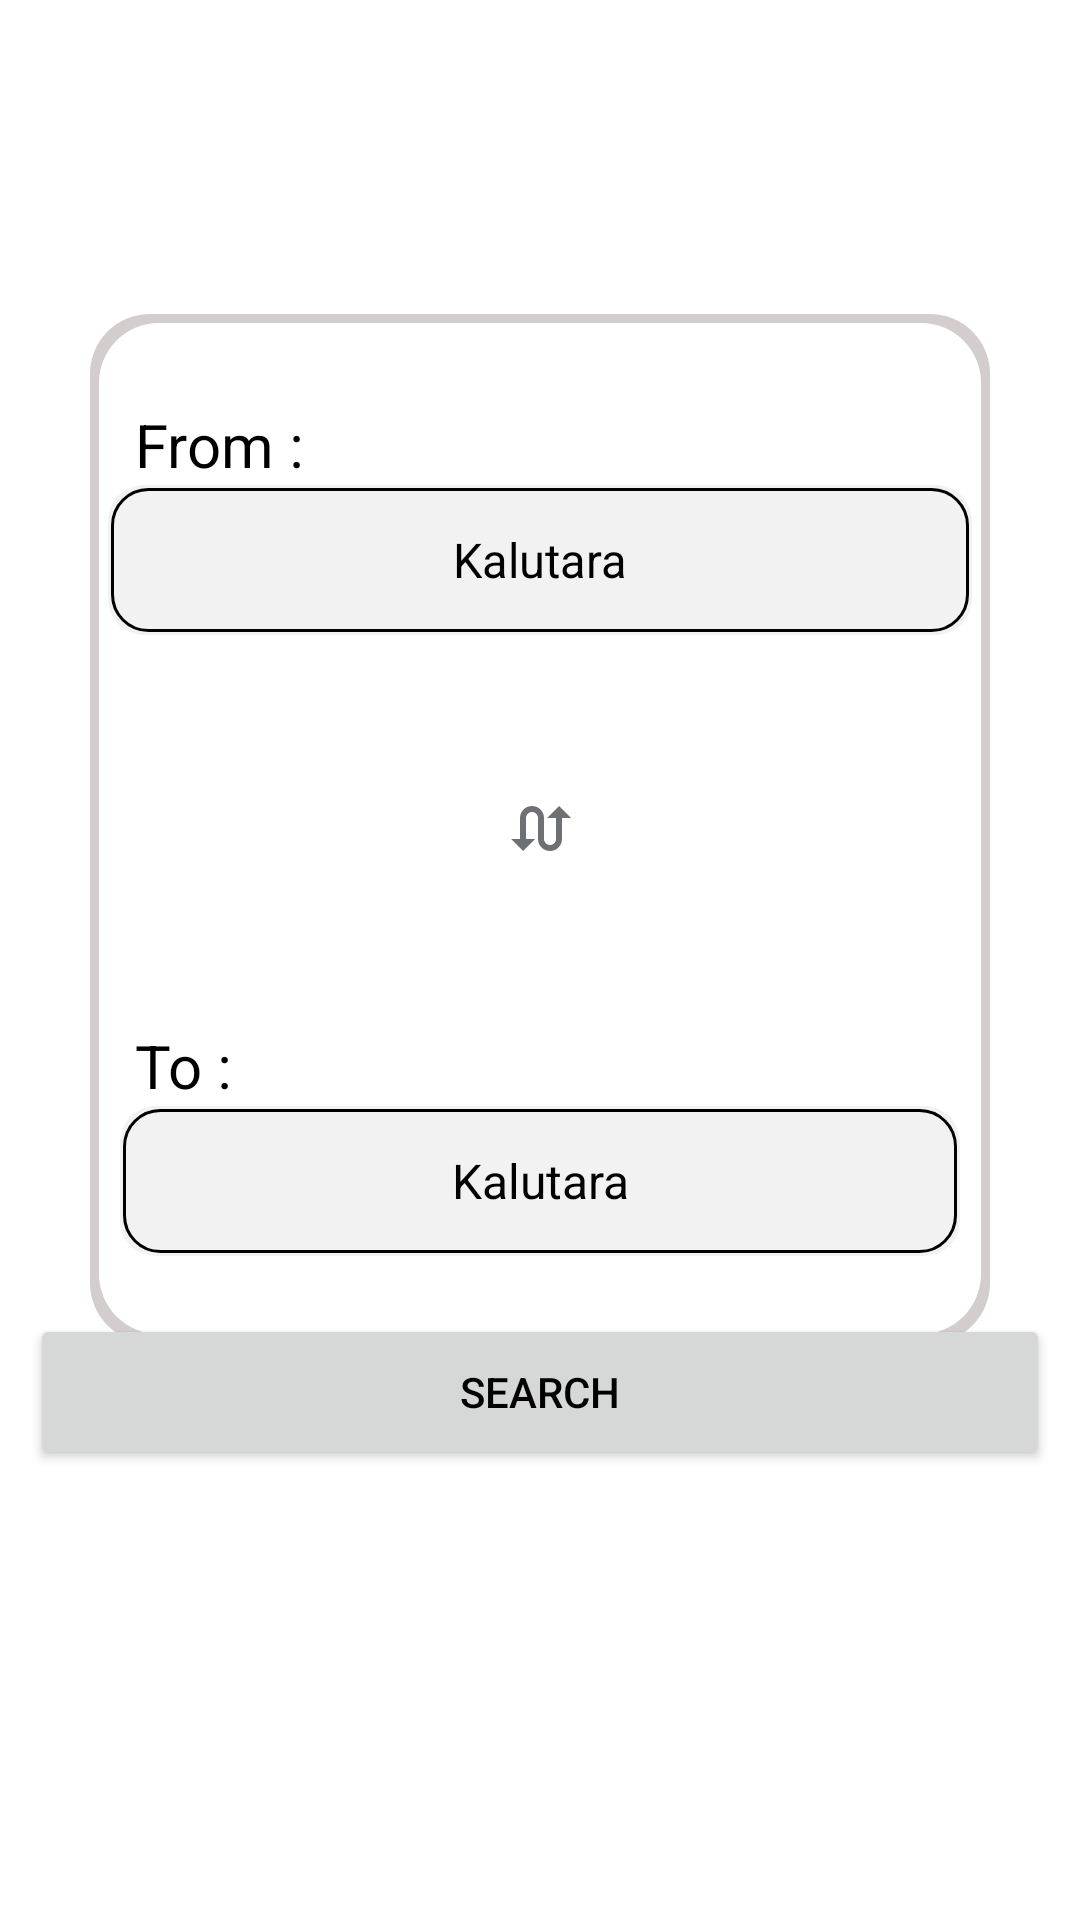

Icon click points for this 1080px×1920px phone screenshot, format [x,y]:
Swap locations: [541,828]
